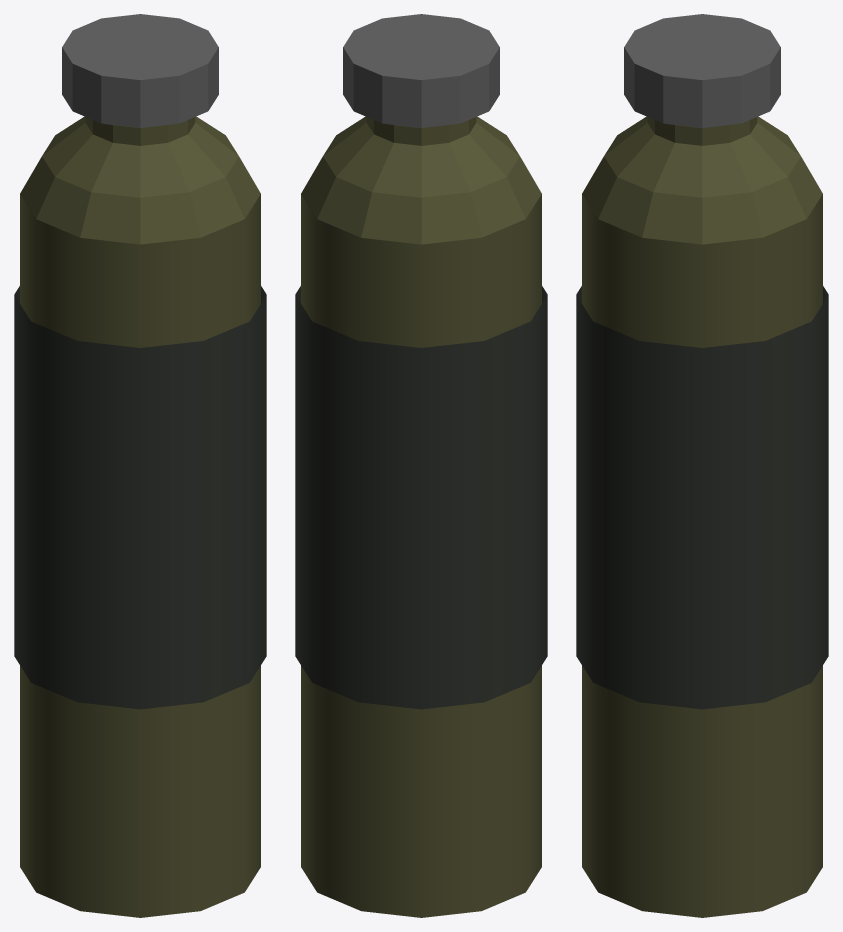
Rendered from SM_bottles_mat_02.fbx.
The picture shows the model from 3 angles, left to right: view 1: azimuth 30°, elevation 25°; view 2: azimuth 150°, elevation 25°; view 3: azimuth 270°, elevation 25°; orthographic projection.
Parts seen in each view (by area): view 1: bottles_mat_02; view 2: bottles_mat_02; view 3: bottles_mat_02.
Part boxes in pixels (left/top/right/bottom): bottles_mat_02: left=14, top=14, right=266, bottom=917; bottles_mat_02: left=295, top=14, right=547, bottom=917; bottles_mat_02: left=576, top=14, right=828, bottom=917.
Bounding box in the file's own units: 14.61 × 52.33 × 14.61.
